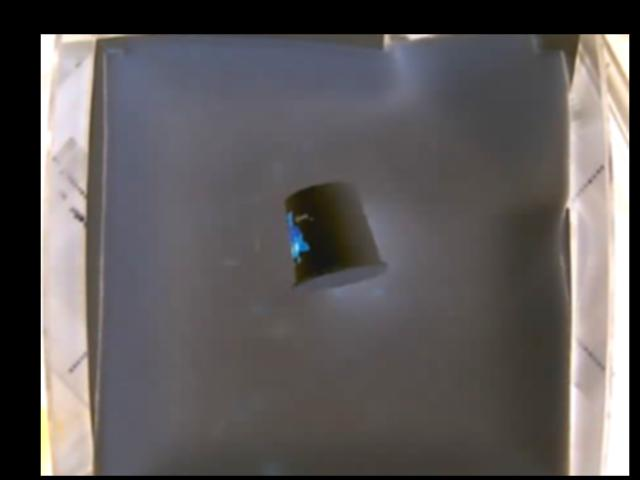Cup: (282, 183, 386, 293)
